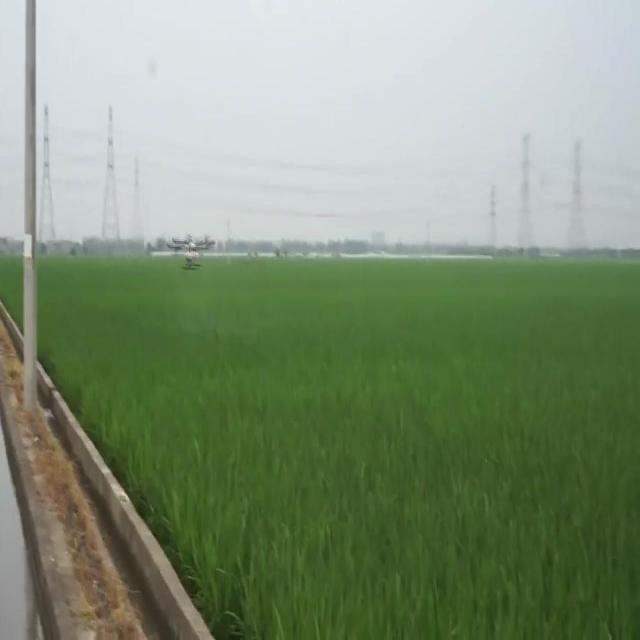UAV: (166, 234, 216, 270)
